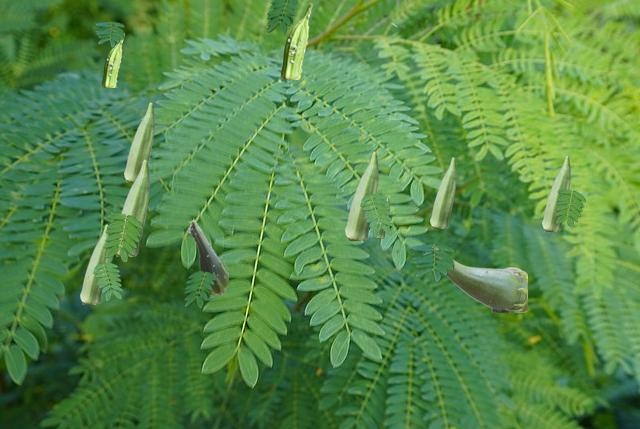okra: (446, 259, 526, 311), (116, 159, 148, 255), (188, 218, 227, 293), (345, 151, 377, 239), (80, 224, 109, 303), (124, 102, 153, 181), (281, 3, 311, 78), (542, 155, 569, 230), (430, 157, 455, 227), (102, 40, 123, 86), (374, 197, 388, 237)
